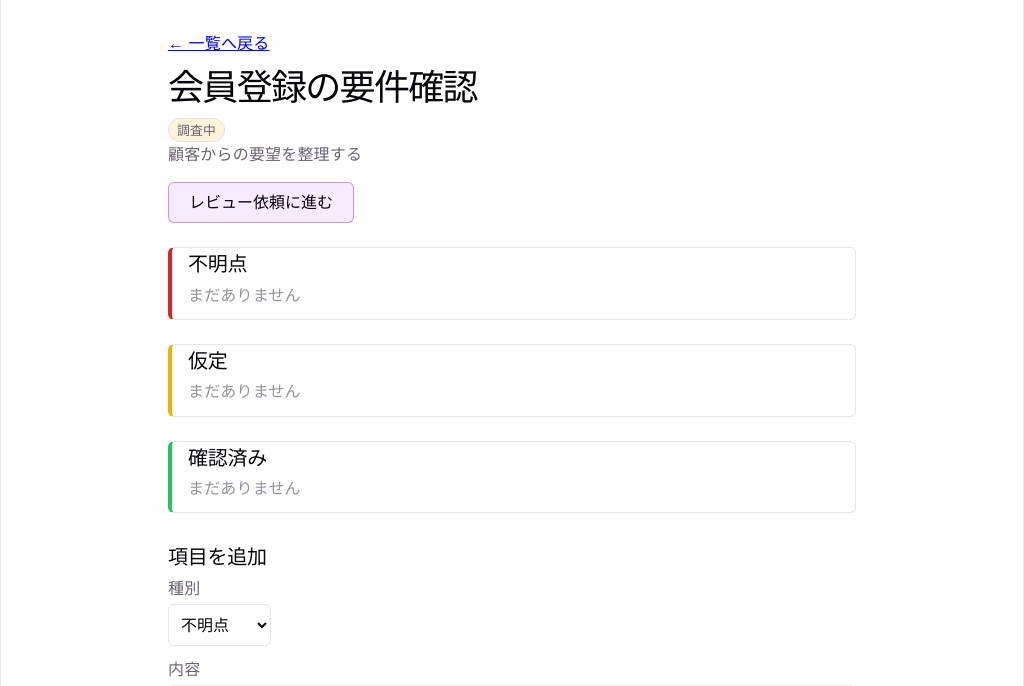
Test: 項目の追加 › 追加した項目を、選んだ種別の欄に表示する
This screenshot has width=1024, height=686.
Expected: the element "不明点" is shown, top-left (168, 247), bottom-right (856, 320)
Select "不明点" in the dropdown labelled "種別" at (220, 625), box top-left (168, 604), bottom-right (271, 646)
(page scrolled)
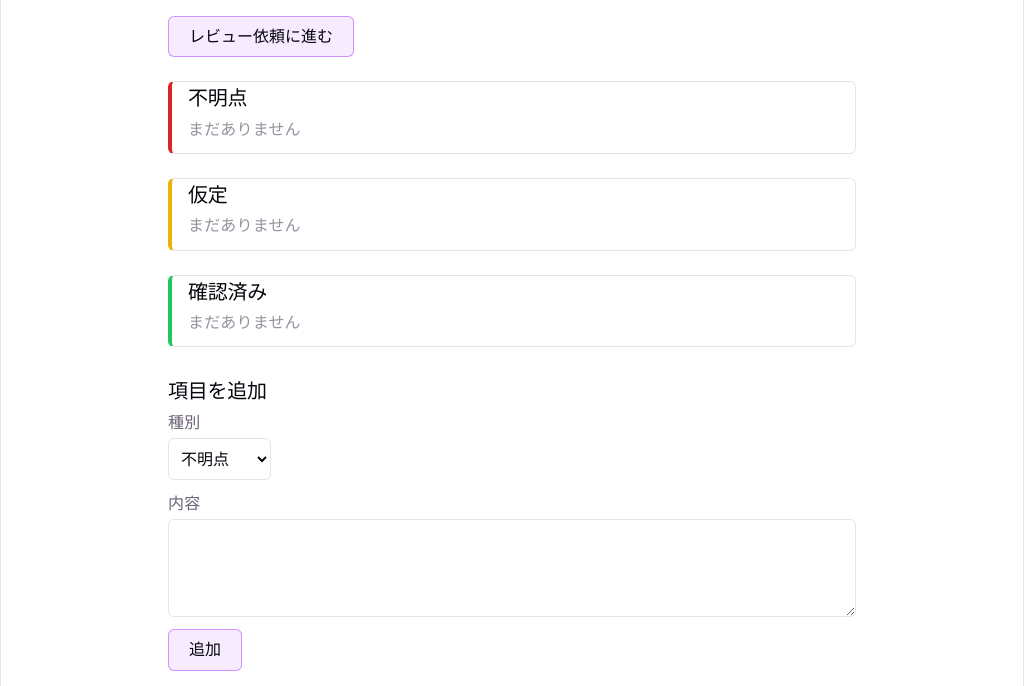
Type "支払い方法は何があるか" into the text box labelled "内容".
click(512, 568); type("支払い方法は何があるか")  # box top-left (168, 519), bottom-right (856, 617)
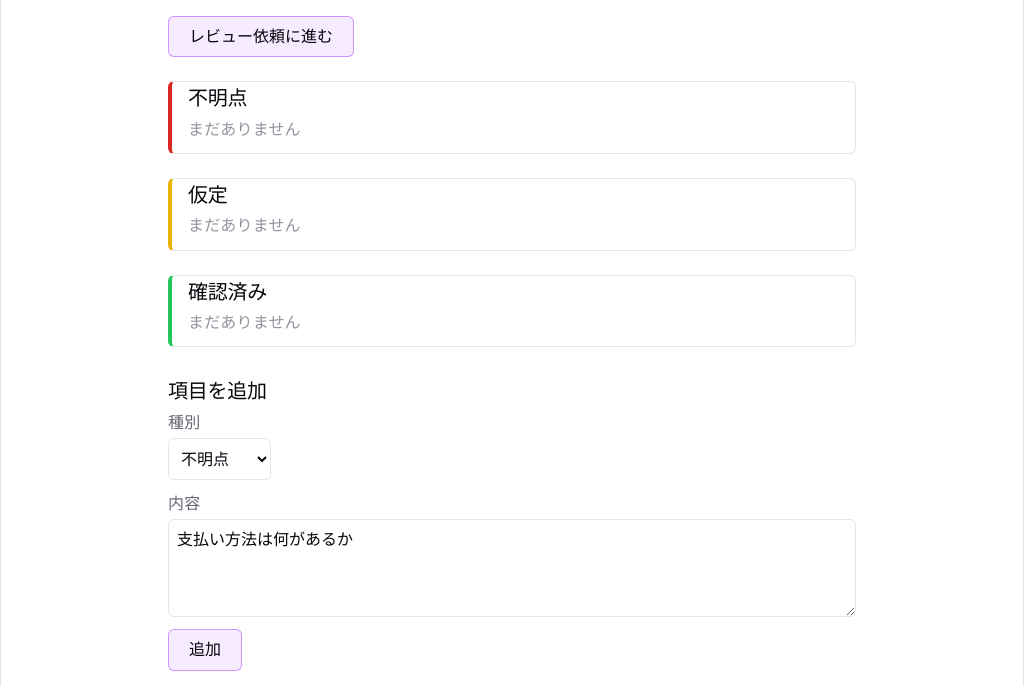
Click the button "追加".
click(205, 650)  # box top-left (168, 629), bottom-right (242, 671)
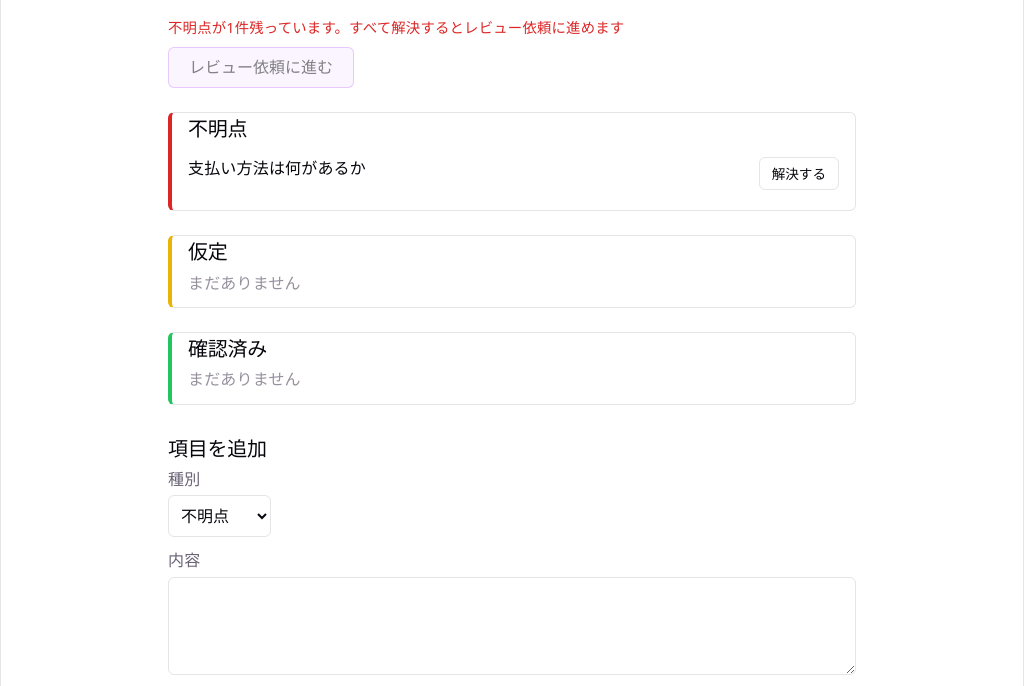
Expected: the text "支払い方法は何があるか" is shown, top-left (188, 157), bottom-right (366, 180)
Expected: the text box labelled "内容" is empty, top-left (168, 577), bottom-right (856, 675)
